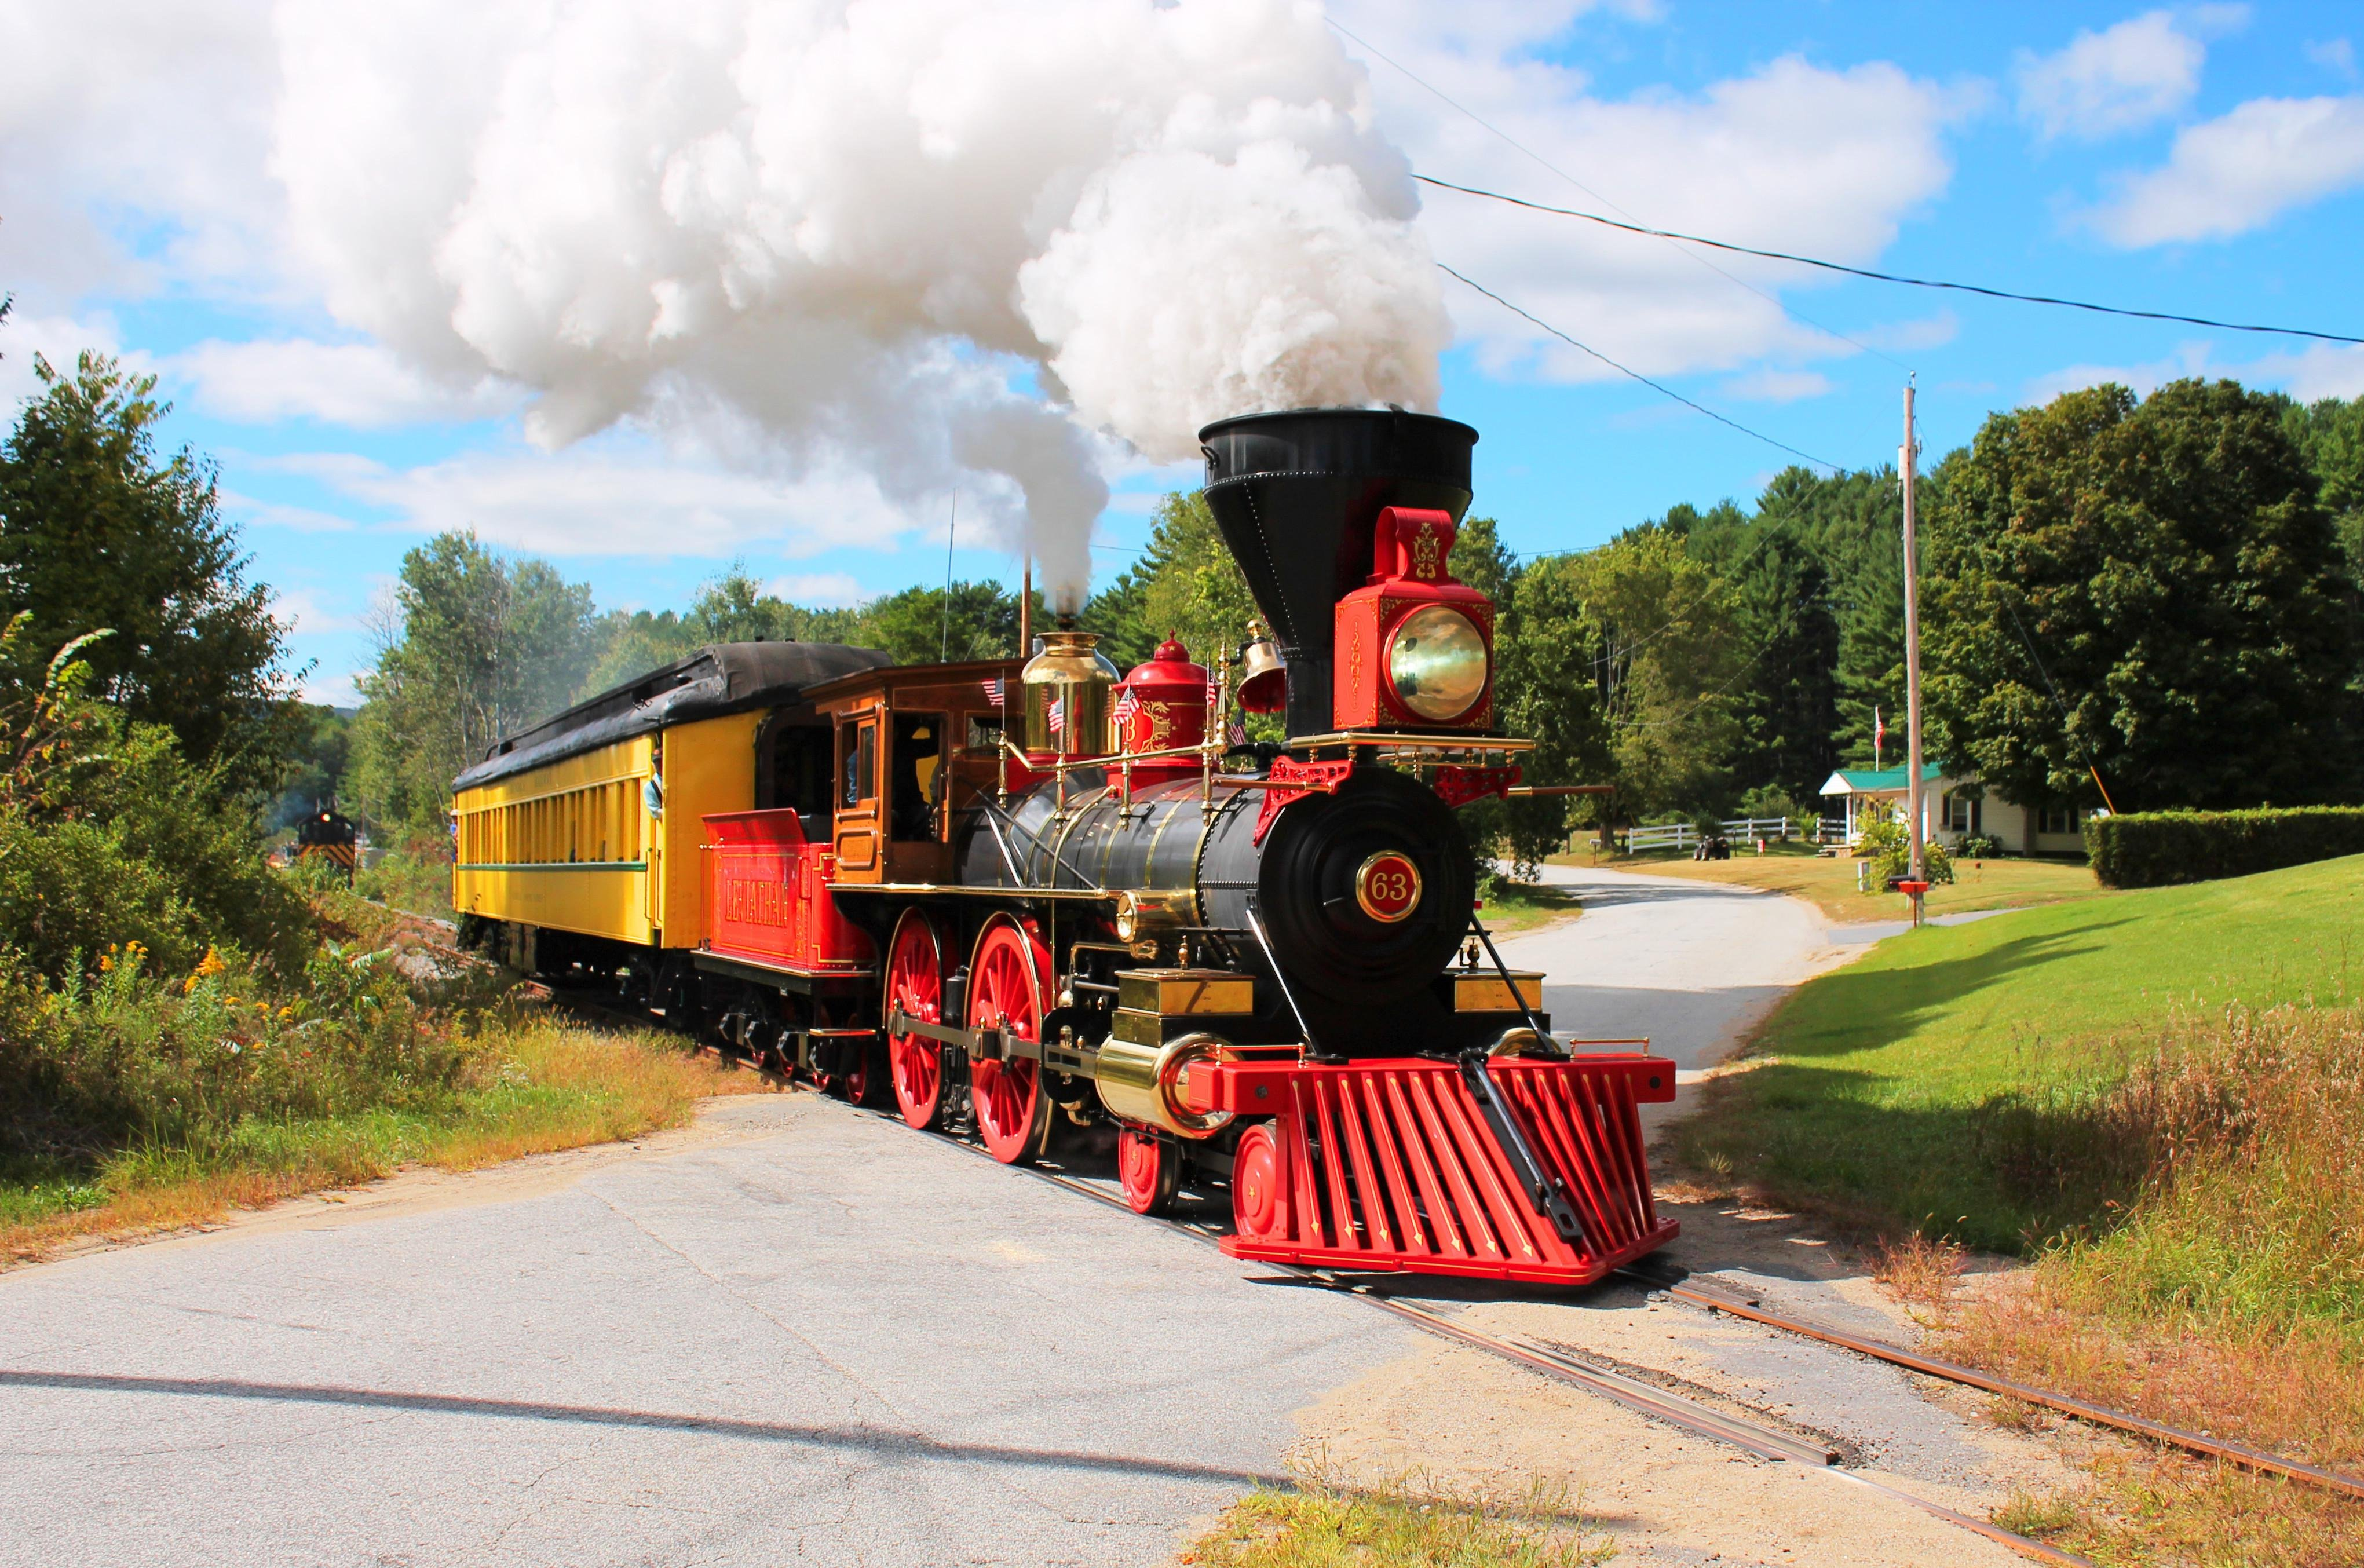train: (450, 401, 1687, 1307)
